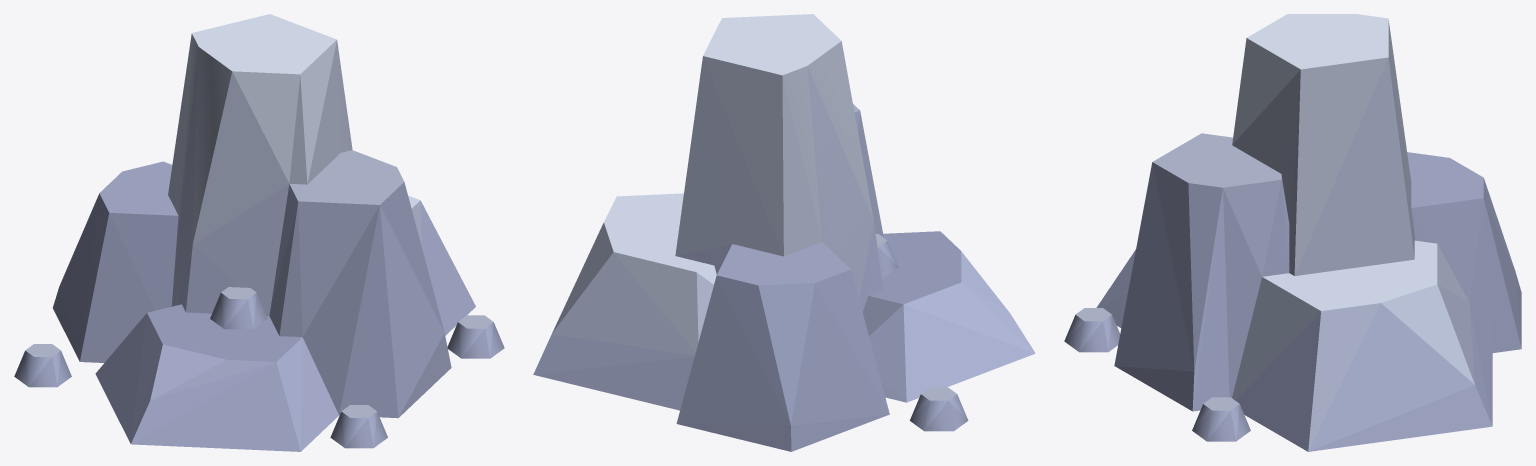
The model's file is kenney_town_rock_large.glb.
3 renders of one model, left to right at view 1: azimuth 30°, elevation 25°; view 2: azimuth 150°, elevation 25°; view 3: azimuth 270°, elevation 25°, orthographic. The views are drawn at different scales.
Visible parts, largest first — view 1: metal, stone, cloth; view 2: metal, stone, cloth; view 3: metal, stone, cloth.
Boxes of the visible parts, x1,y1,x2,y2 form: metal: (14, 33, 504, 448); stone: (95, 205, 451, 451); cloth: (192, 14, 420, 208); metal: (533, 41, 968, 451); stone: (869, 251, 1035, 402); cloth: (604, 14, 841, 284); metal: (1064, 20, 1521, 451); stone: (1096, 163, 1229, 411); cloth: (1232, 14, 1437, 311).
Bounding box in the file's own units: 1.67 × 1.16 × 1.55.
